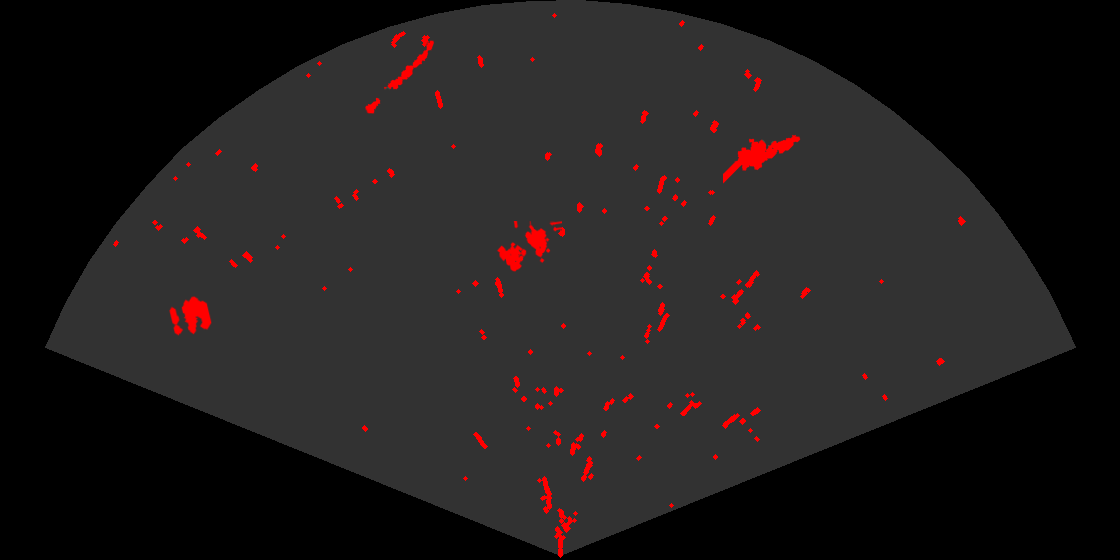ball: (168, 295, 213, 337)
cage: (495, 221, 562, 273)
chain: (364, 39, 436, 115)
frogman: (723, 133, 802, 185)
